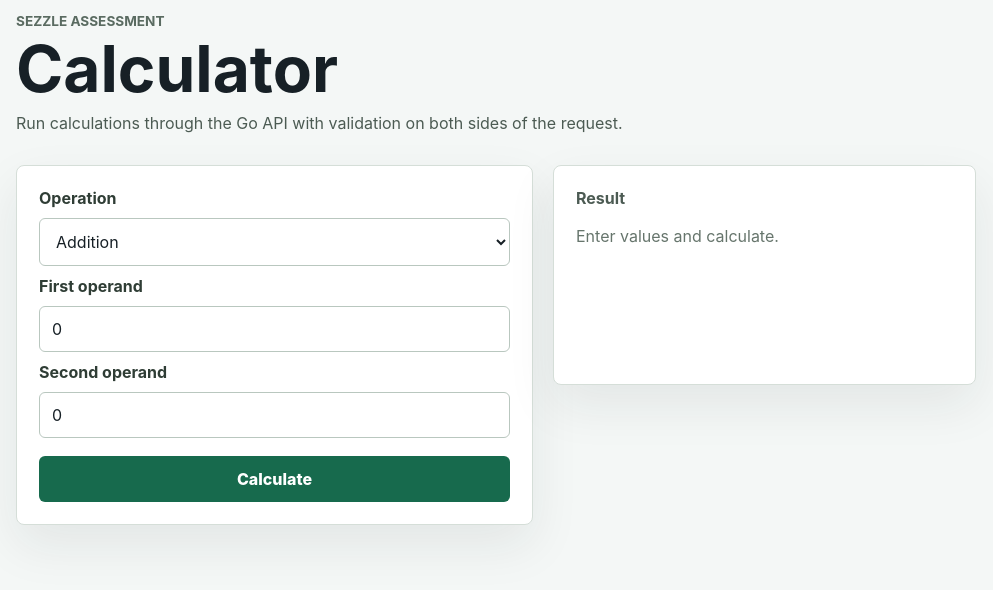
Scenario: CalculatorForm › clears a previous result after client-side validation fails
Replace the text in the field labelled "First operand" with "10": (274, 329) x1=39 y1=306 x2=510 y2=352
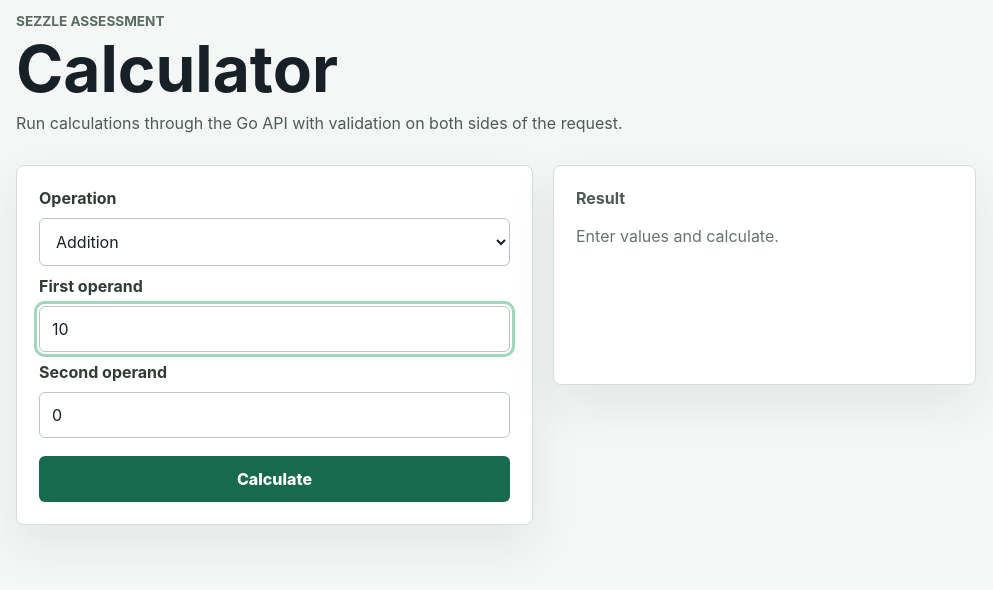
Replace the text in the field labelled "Second operand" with "2": (274, 415) x1=39 y1=392 x2=510 y2=438
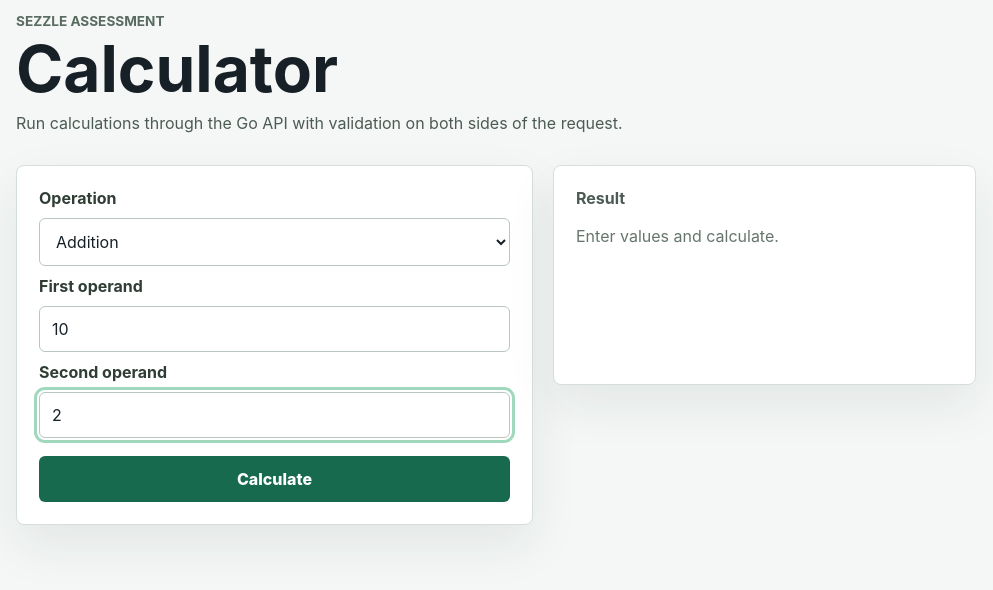
Click the button "Calculate": (274, 479) x1=39 y1=456 x2=510 y2=502
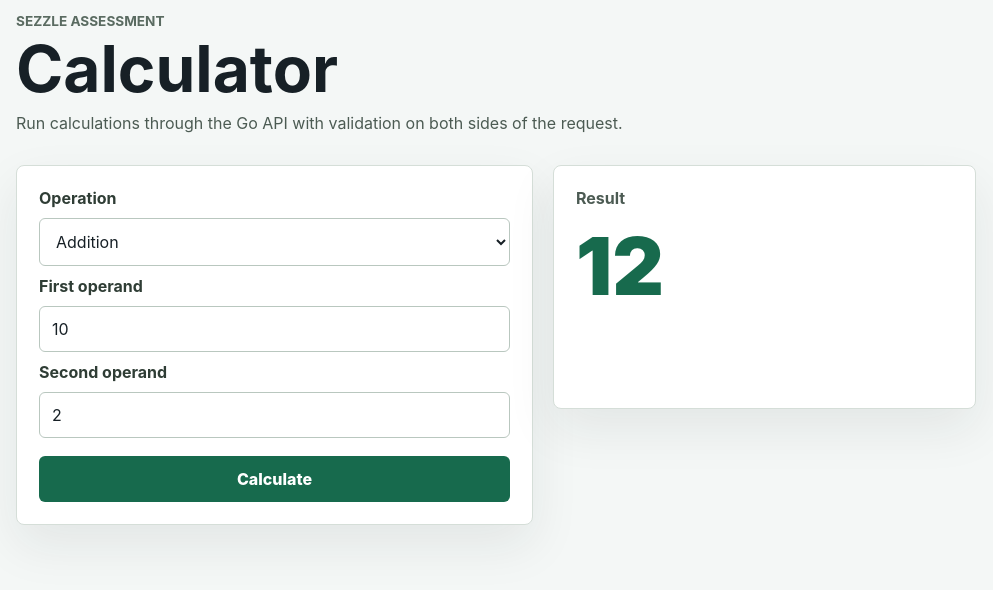
Expected: the text "12" is shown, x1=576 y1=217 x2=664 y2=314
Clear the field labelled "First operand": (274, 329) x1=39 y1=306 x2=510 y2=352
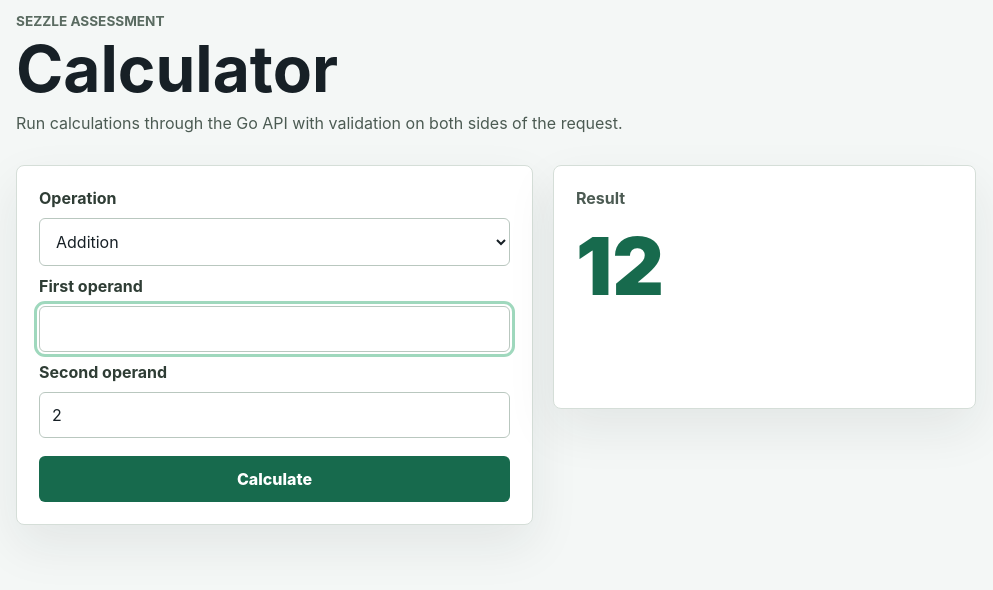
Click the button "Calculate": (274, 479) x1=39 y1=456 x2=510 y2=502
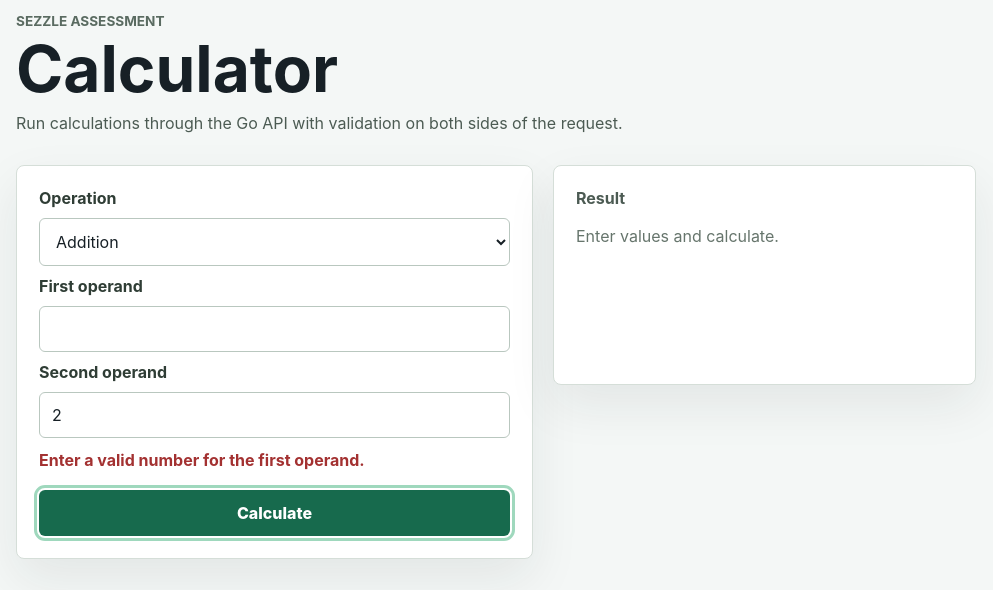
Expected: the text "12" is gone
Expected: the text "Enter a valid number for the first operand." is shown once, x1=39 y1=450 x2=365 y2=470
